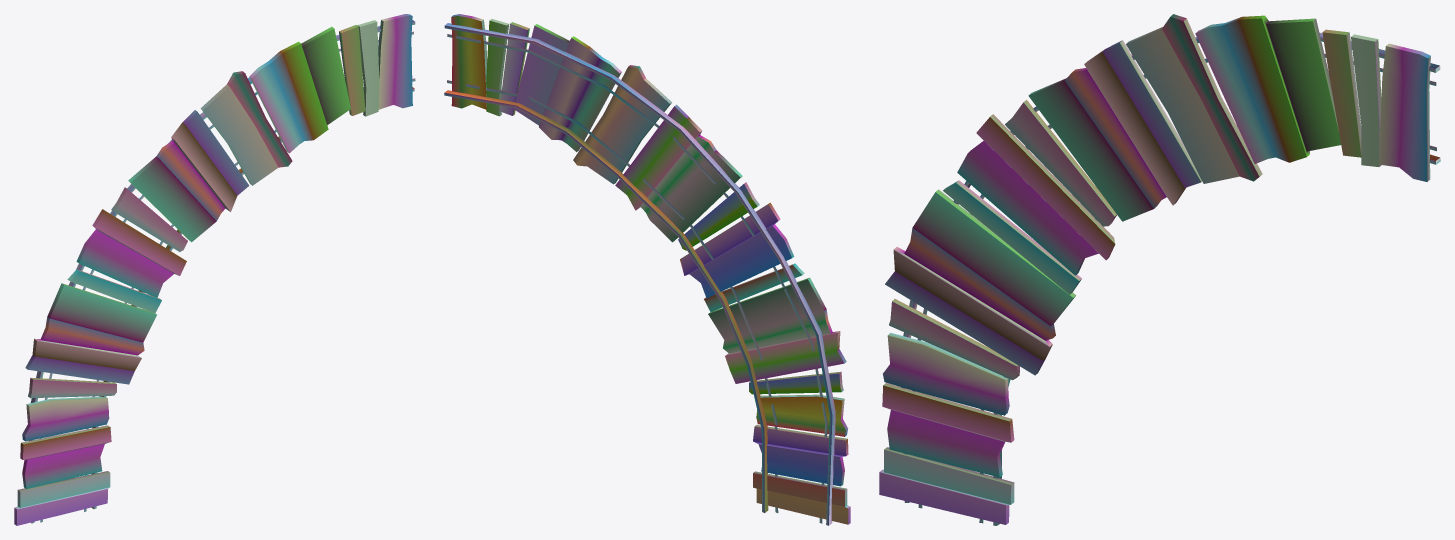
File: Dock_CurveB.glb
3 renders of one model, left to right at view 1: azimuth 30°, elevation 25°; view 2: azimuth 150°, elevation 25°; view 3: azimuth 330°, elevation 25°, orthographic. The views are drawn at different scales.
Visible parts, largest first — view 1: MeshNode_0; view 2: MeshNode_0; view 3: MeshNode_0.
Part boxes in pixels (left/top/right/bottom): MeshNode_0: left=14, top=14, right=415, bottom=525; MeshNode_0: left=444, top=14, right=850, bottom=525; MeshNode_0: left=879, top=14, right=1440, bottom=525.
Size of the model in its own units: 73.09 by 74.29 by 3.5.
